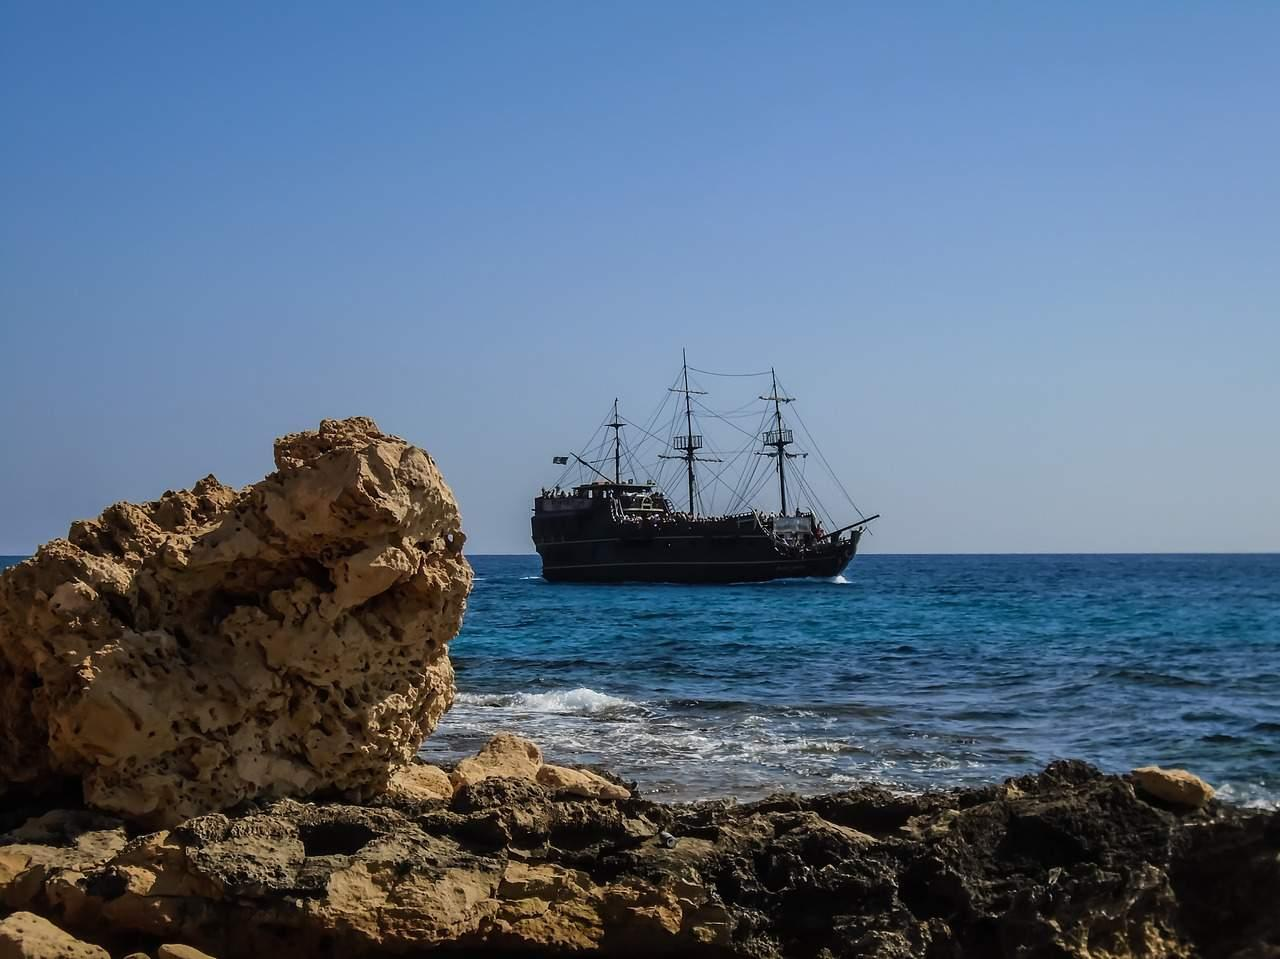Ship: (530, 350, 881, 589)
